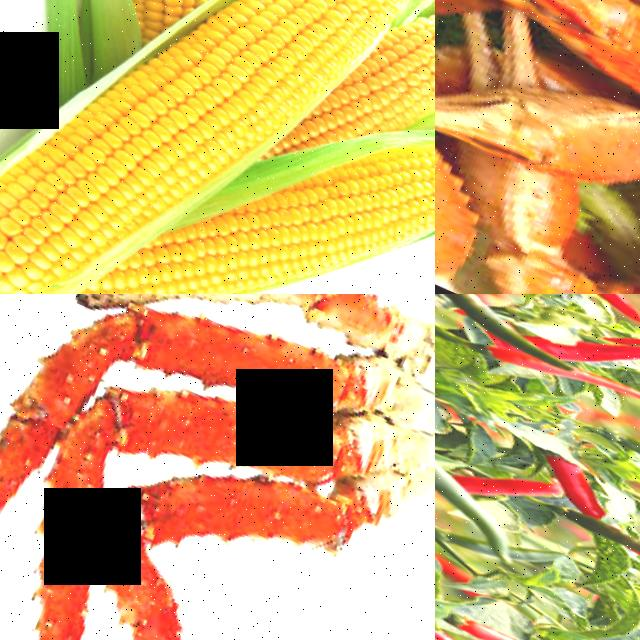chilli: (544, 494, 640, 591), (443, 603, 640, 640), (448, 294, 640, 326), (584, 415, 640, 510)
corn: (0, 27, 169, 294), (159, 0, 425, 166), (75, 139, 337, 294), (282, 85, 435, 294), (335, 0, 435, 162)
crab: (8, 294, 432, 594), (435, 0, 640, 294), (435, 0, 640, 229), (0, 443, 193, 640), (0, 324, 92, 640), (56, 534, 298, 640)
